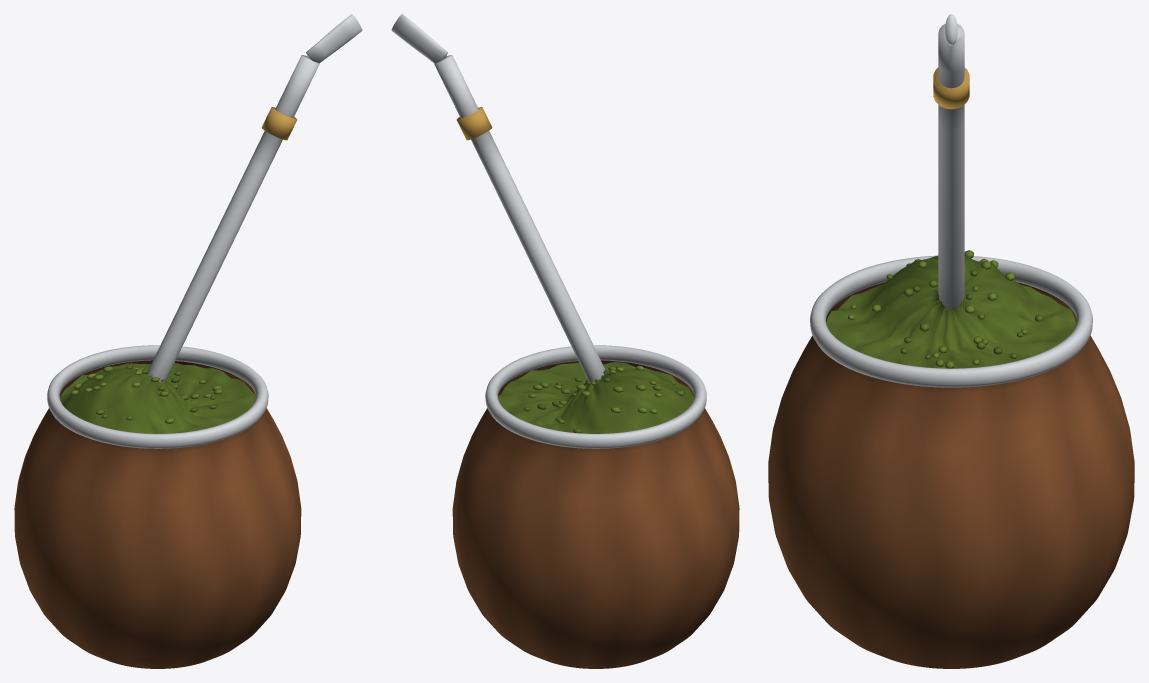
Rendered from prop_mate.glb.
3 views of the same model, side by side, from view 1: azimuth 30°, elevation 25°; view 2: azimuth 150°, elevation 25°; view 3: azimuth 270°, elevation 25° (orthographic). The views are drawn at different scales.
Parts seen in each view (by area): view 1: prop_mate; view 2: prop_mate; view 3: prop_mate.
Part boxes in pixels (x1,y1,x2,y2): prop_mate: (14,14,362,668); prop_mate: (391,14,739,668); prop_mate: (768,14,1134,668).
Size of the model in its own units: 0.0999 by 0.1702 by 0.0756.
